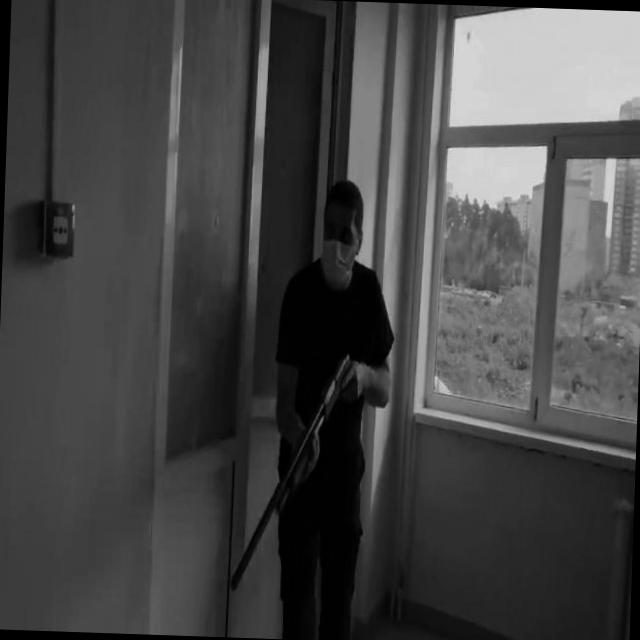gun: (228, 346, 353, 596)
person with a gun: (223, 175, 400, 640)
